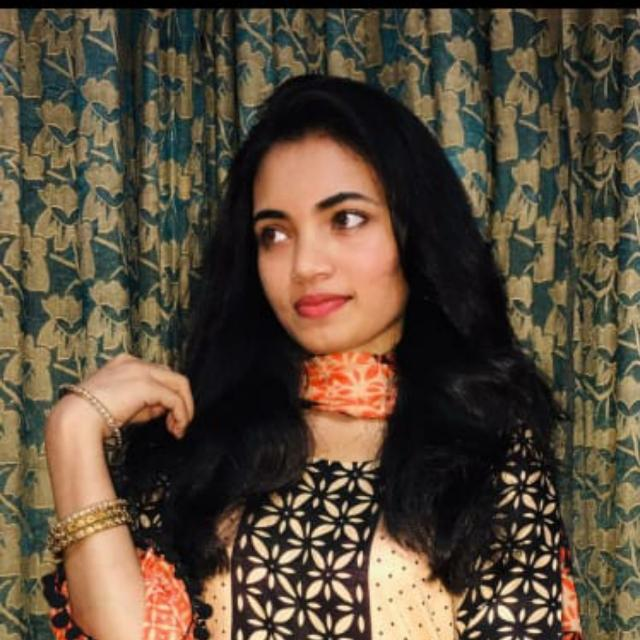Natural: (200, 105, 441, 414)
